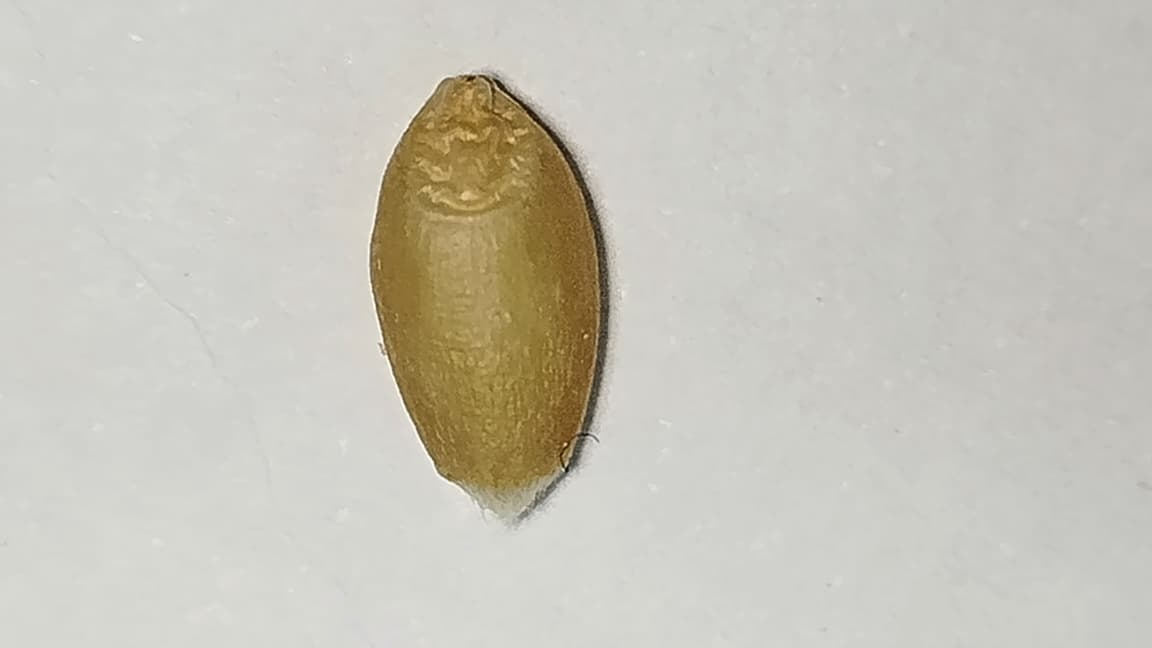healthy: (370, 71, 607, 522)
